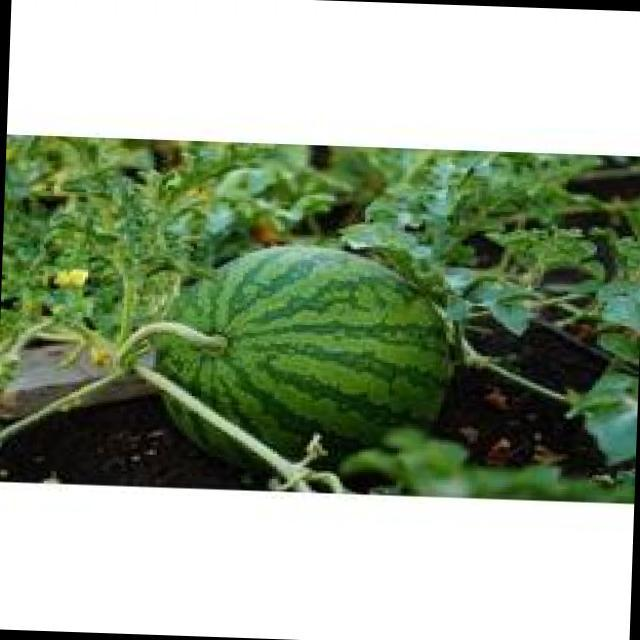watermelon: (156, 245, 453, 449)
